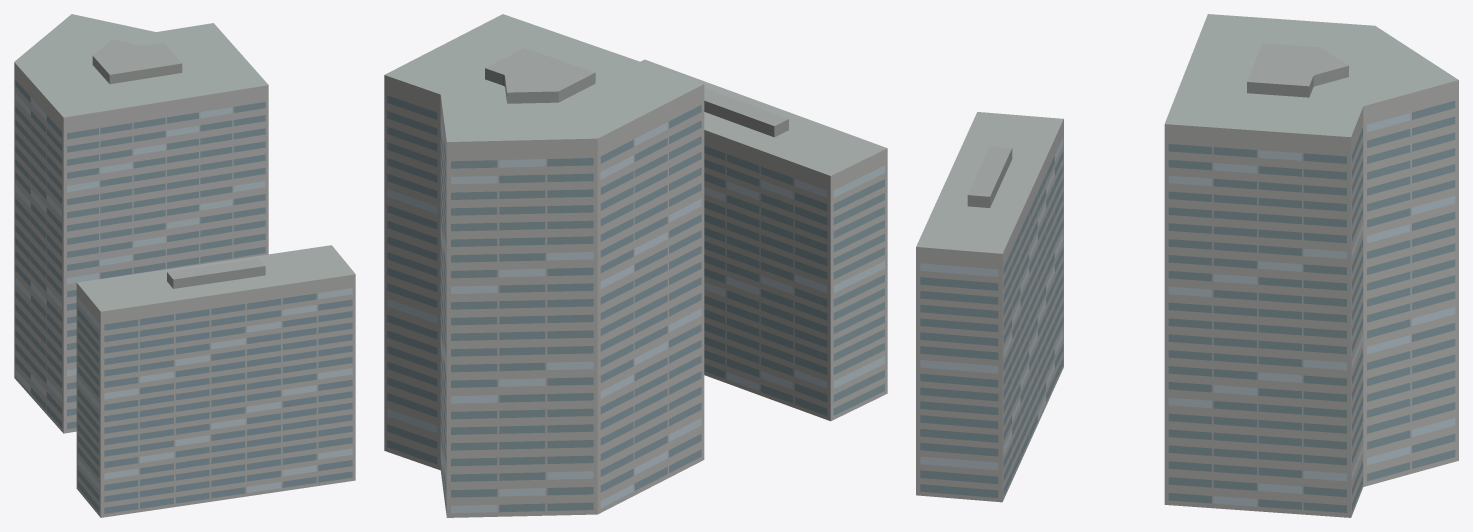
Rendered from apt-a14382101.glb.
The picture shows the model from 3 angles, left to right: view 1: azimuth 30°, elevation 25°; view 2: azimuth 150°, elevation 25°; view 3: azimuth 270°, elevation 25°; orthographic projection. The views are drawn at different scales.
Parts seen in each view (by area): view 1: apt-a14382101; view 2: apt-a14382101; view 3: apt-a14382101.
Part boxes in pixels (box(x1,y1,x2,y2)): apt-a14382101: box(14, 14, 355, 517); apt-a14382101: box(384, 14, 887, 517); apt-a14382101: box(916, 14, 1458, 517).
Size of the model in its own units: 71.56 by 83 by 104.
